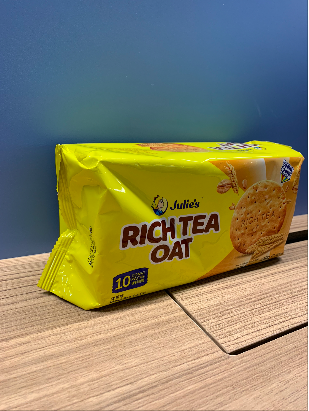Cookies_200-299g: (78, 162, 288, 285)
